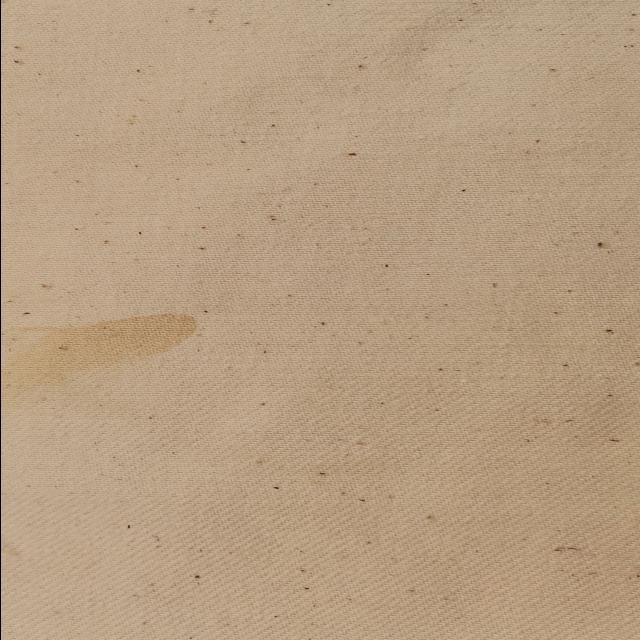taaaches: (0, 296, 223, 412)
